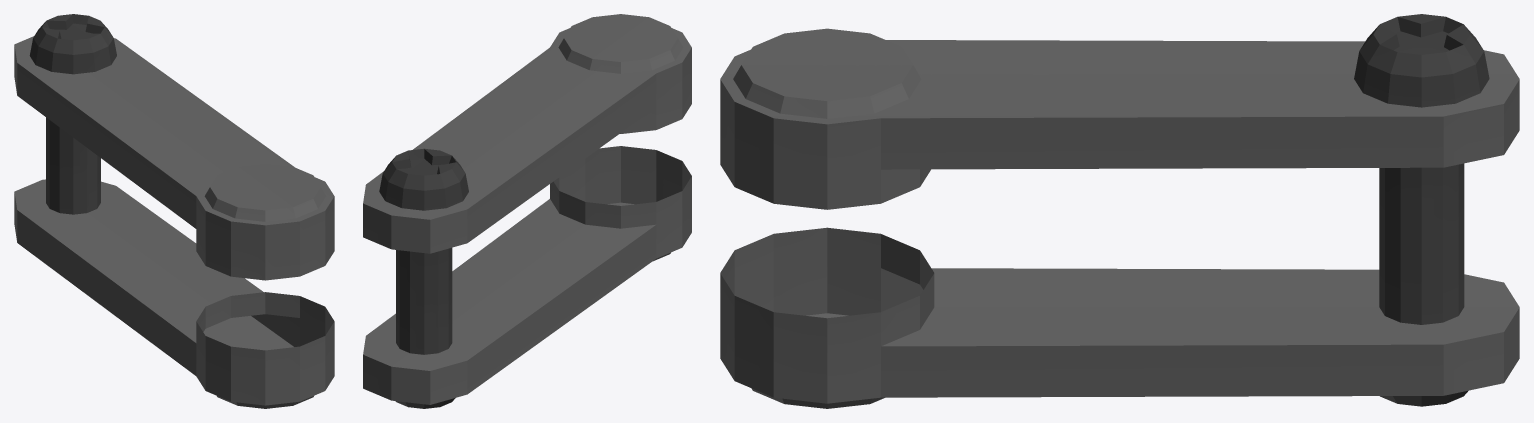
File: Drone_Saw_arm.obj
The picture shows the model from 3 angles, left to right: view 1: azimuth 30°, elevation 25°; view 2: azimuth 150°, elevation 25°; view 3: azimuth 270°, elevation 25°; orthographic projection. The views are drawn at different scales.
Parts seen in each view (by area): view 1: Drone_Saw_arm; view 2: Drone_Saw_arm; view 3: Drone_Saw_arm.
Part boxes in pixels (x1,y1,x2,y2): Drone_Saw_arm: (14,14,334,408); Drone_Saw_arm: (363,14,691,408); Drone_Saw_arm: (720,14,1519,408).
Bounding box in the file's own units: 1.35 × 2.45 × 5.05.
